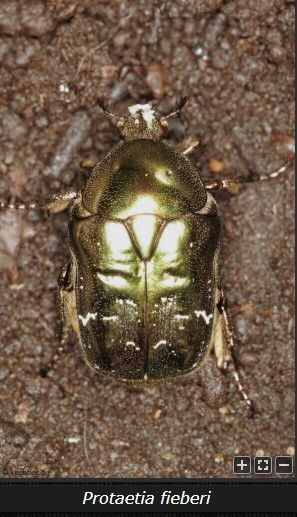Protaetia_fieberi: (44, 90, 264, 425)
